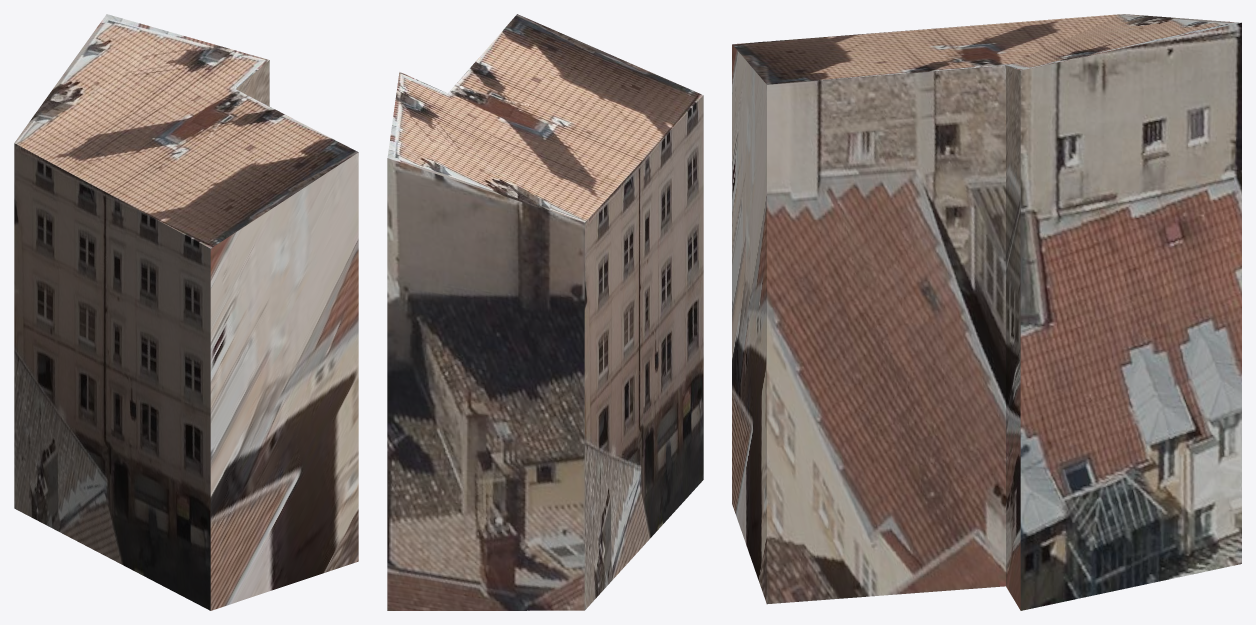
3 renders of one model, left to right at view 1: azimuth 30°, elevation 25°; view 2: azimuth 150°, elevation 25°; view 3: azimuth 270°, elevation 25°, orthographic. The views are drawn at different scales.
Parts seen in each view (by area): view 1: Z_UP; view 2: Z_UP; view 3: Z_UP.
Boxes of the visible parts, bbox=[...] form: Z_UP: bbox=[14, 14, 358, 610]; Z_UP: bbox=[387, 14, 703, 610]; Z_UP: bbox=[732, 14, 1241, 610].
Bounding box in the file's own units: 10.69 × 20.27 × 17.3.
Materials: 2 (1 with a texture image).
